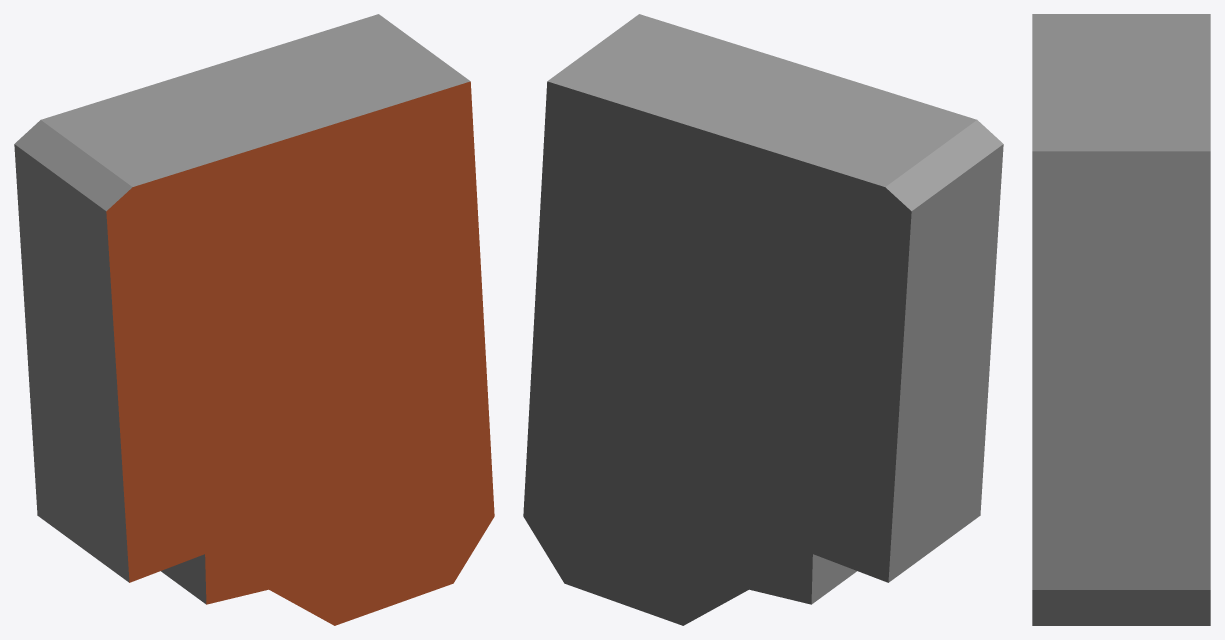
Rendered from construction_3628_assumed_A_Casa_h6m.obj.
The picture shows the model from 3 angles, left to right: view 1: azimuth 30°, elevation 25°; view 2: azimuth 150°, elevation 25°; view 3: azimuth 270°, elevation 25°; orthographic projection. The views are drawn at different scales.
Parts seen in each view (by area): view 1: construction_3628_assumed_A_Casa; view 2: construction_3628_assumed_A_Casa; view 3: construction_3628_assumed_A_Casa.
Part boxes in pixels (x1,y1,x2,y2): construction_3628_assumed_A_Casa: (14,14,494,625); construction_3628_assumed_A_Casa: (523,14,1003,625); construction_3628_assumed_A_Casa: (1032,14,1210,625).
Bounding box in the file's own units: 14.62 × 18.4 × 6.
